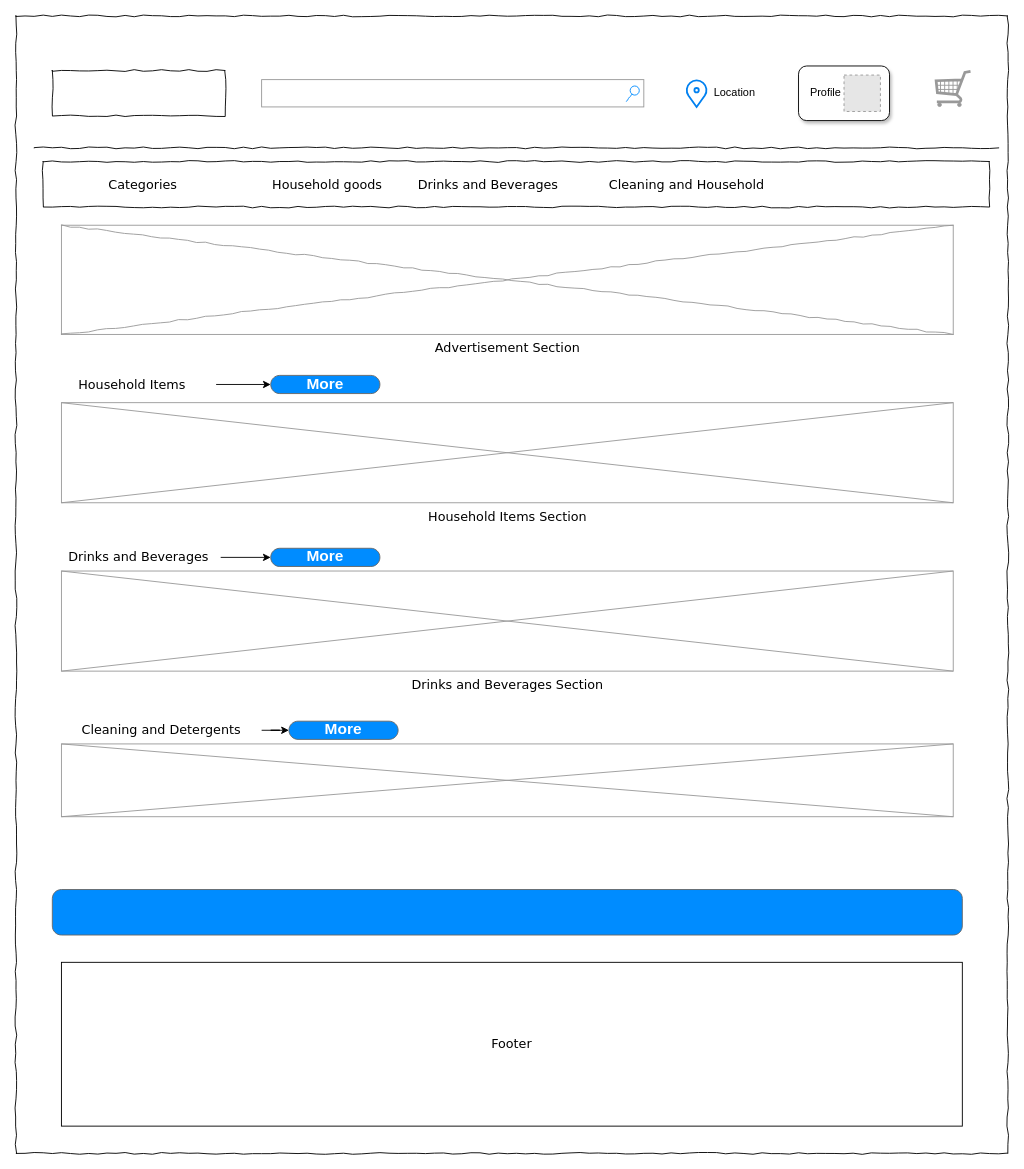
This 1024x1169 diagram has some shape labels left out. Grey dashed boxes stand in for pictures. Here are the shapes that lost their labels. From the top down, the centre of each, then its label:
At pixel 138 93: "LOGO".
At pixel 452 93: "Search".
At pixel 507 780: "Cleaning and Detergents Section".
At pixel 506 912: "Back to Top".
